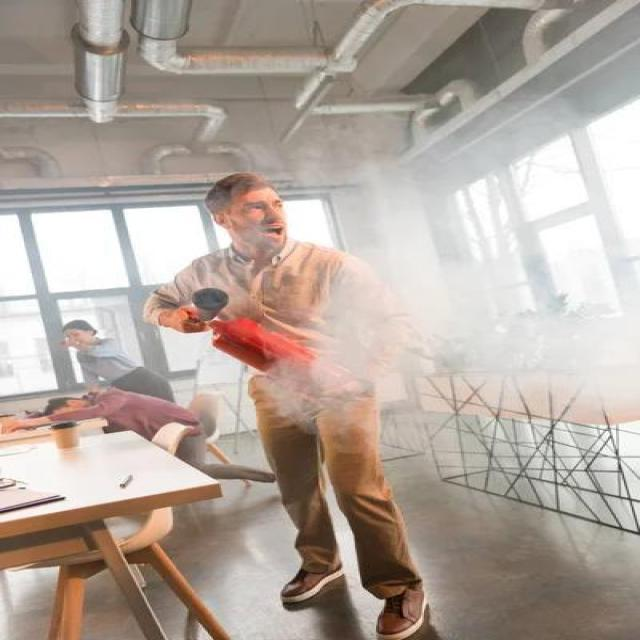fire_extinguisher: (158, 283, 334, 394)
